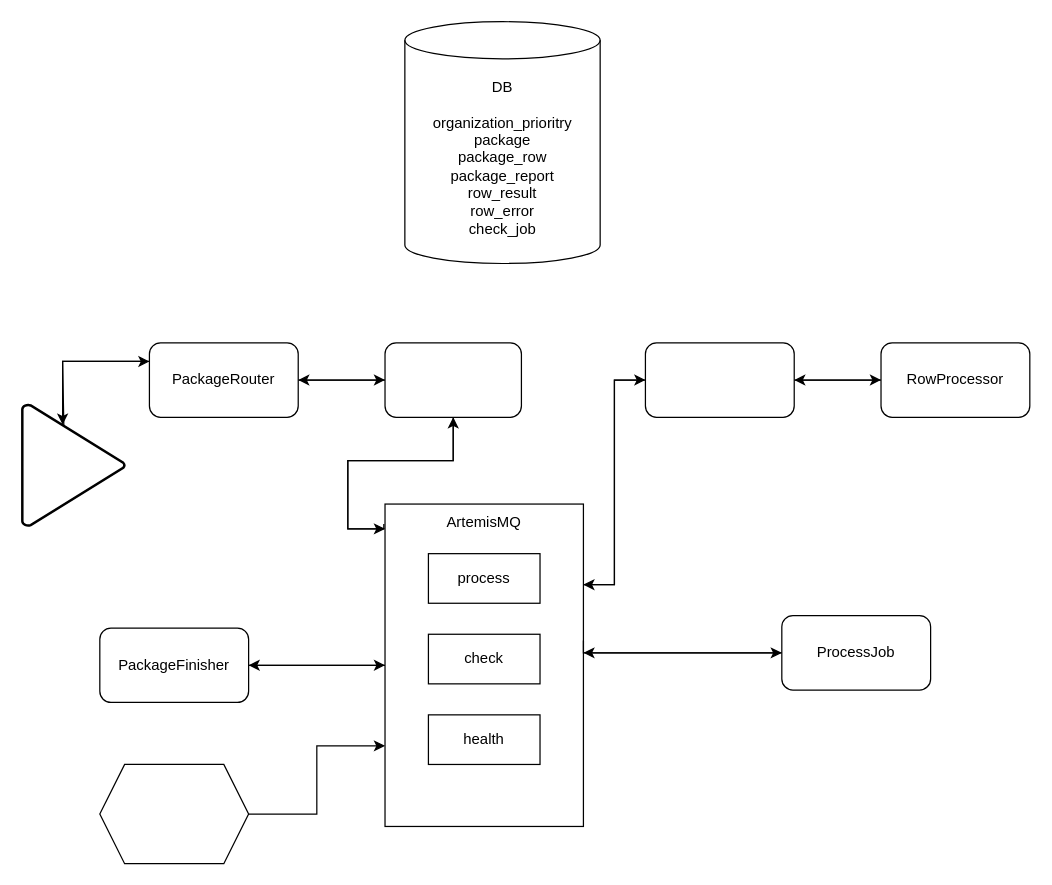
This 1052x885 diagram has some shape labels left out. The shapes that lost their labels are listed below. From the top down, each one's centre as x and y in pixels, then its label:
At (x=452, y=379): "PackageProcessor".
At (x=719, y=379): "RowRouter".
At (x=72, y=464): "Ingress".
At (x=174, y=813): "CronJob".
